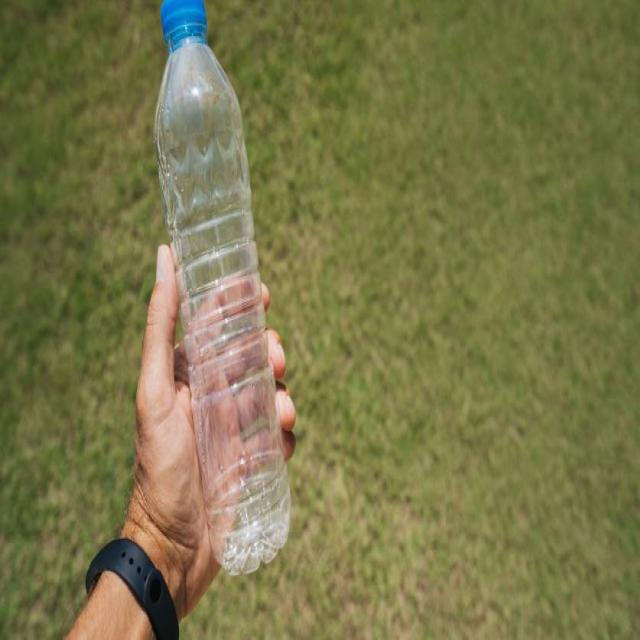plastic bottle: (154, 34, 294, 578)
plastic bottle cap: (161, 0, 209, 39)
